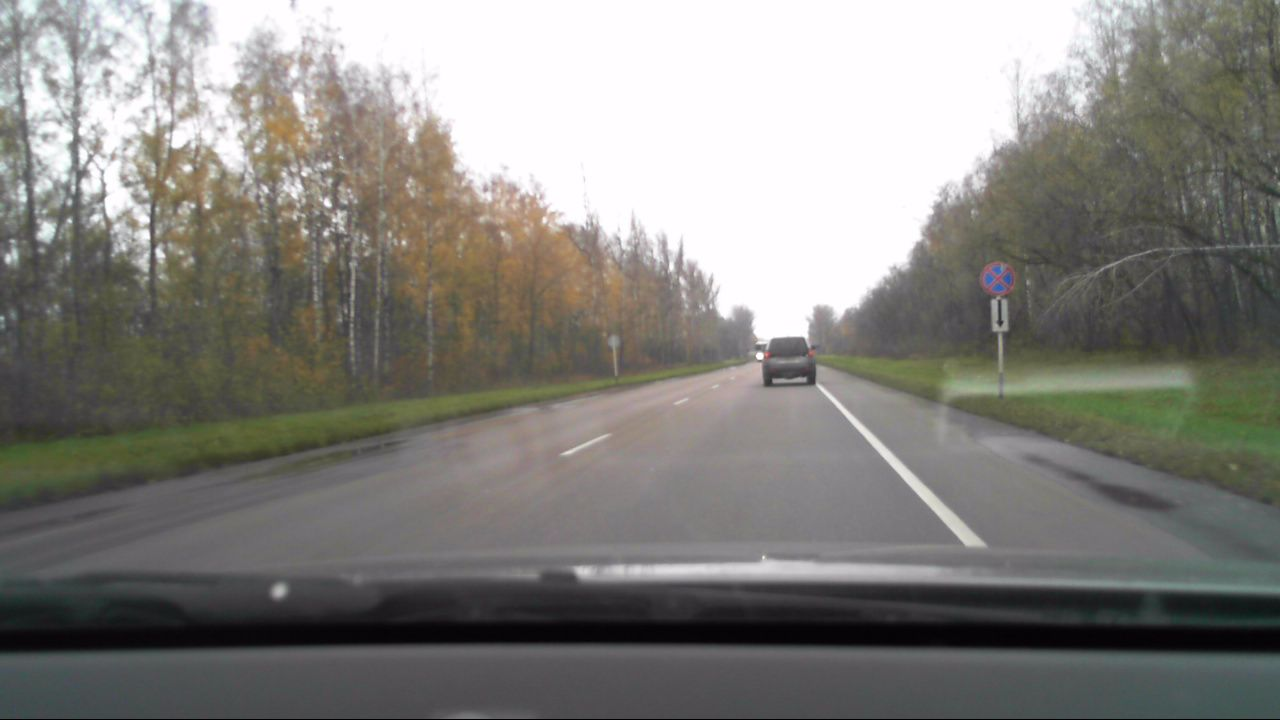No Parking: (978, 259, 1014, 295)
